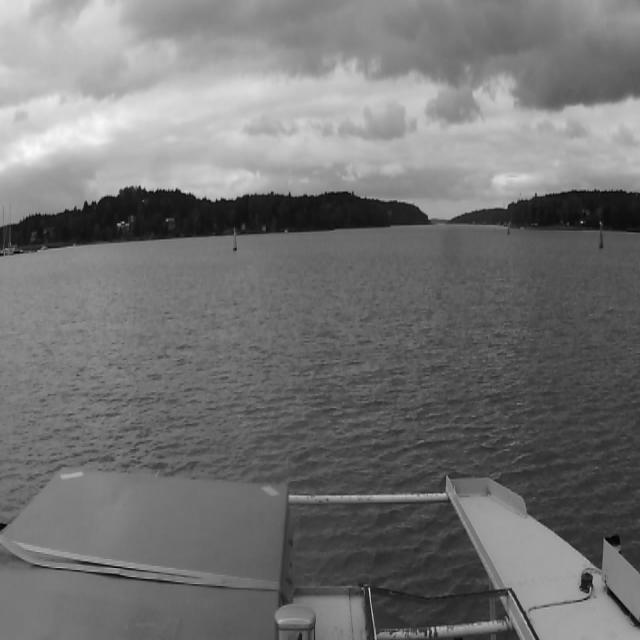buoy: (600, 222, 604, 247), (233, 228, 237, 250), (506, 222, 512, 236)
